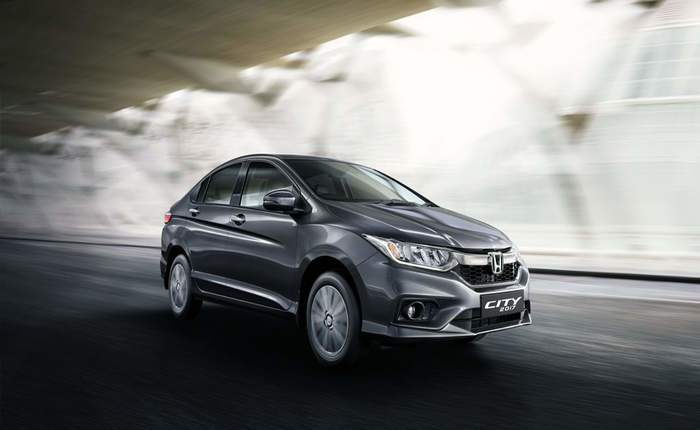car: (154, 149, 540, 375)
